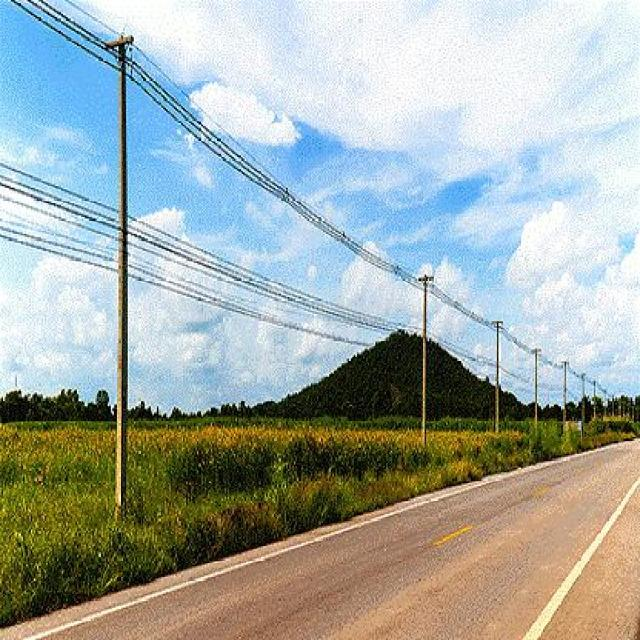light_pole: (89, 14, 193, 512), (393, 262, 447, 448)
